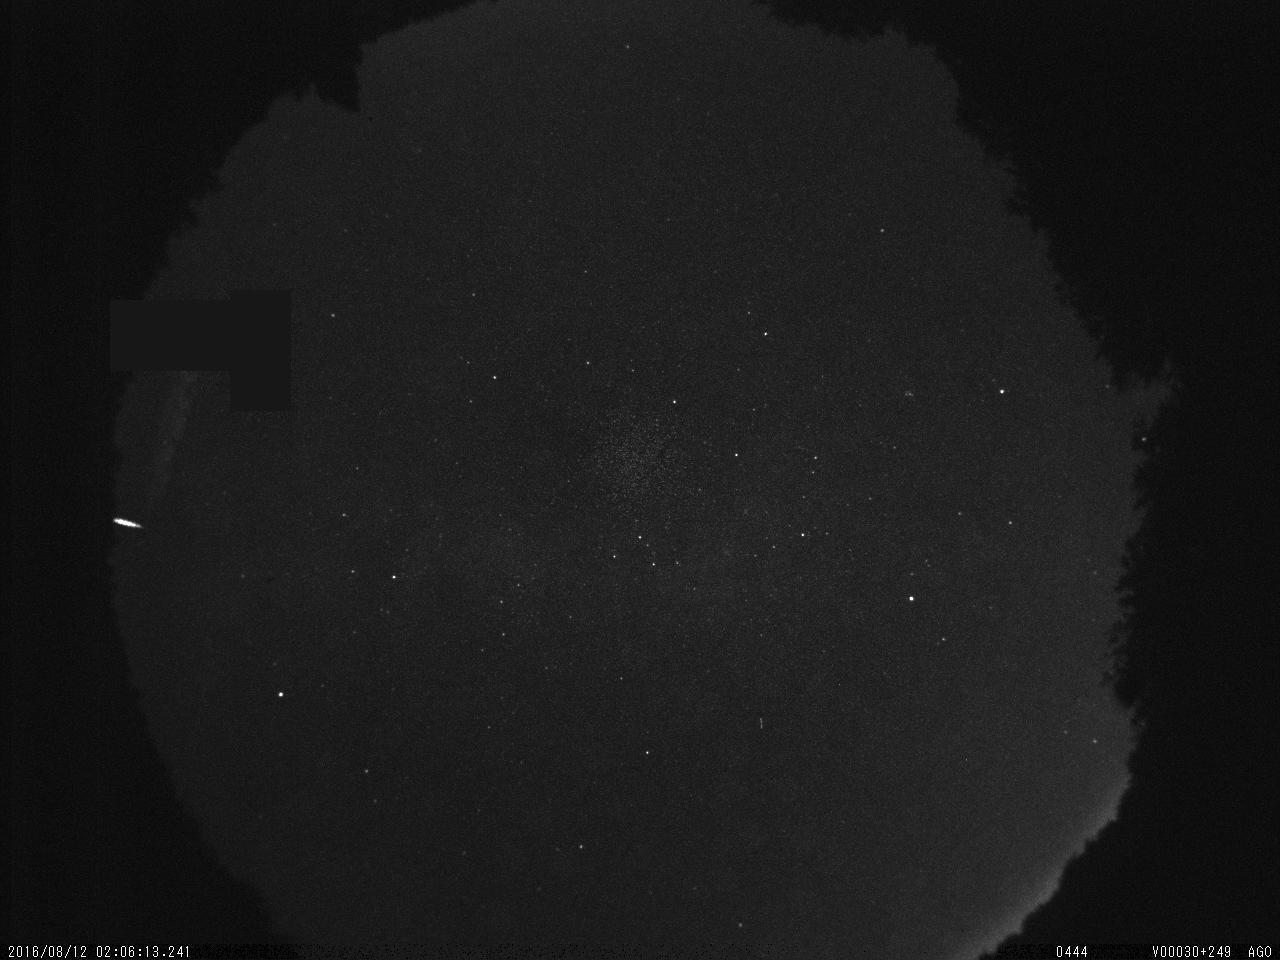meteor: (118, 483, 153, 554)
